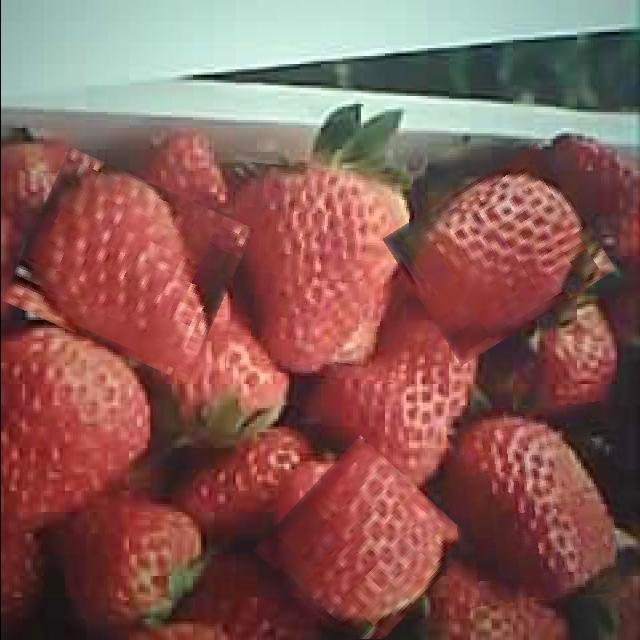strawberry: (14, 164, 240, 366), (394, 162, 602, 348), (230, 164, 408, 378), (268, 451, 457, 640), (450, 405, 616, 605)
